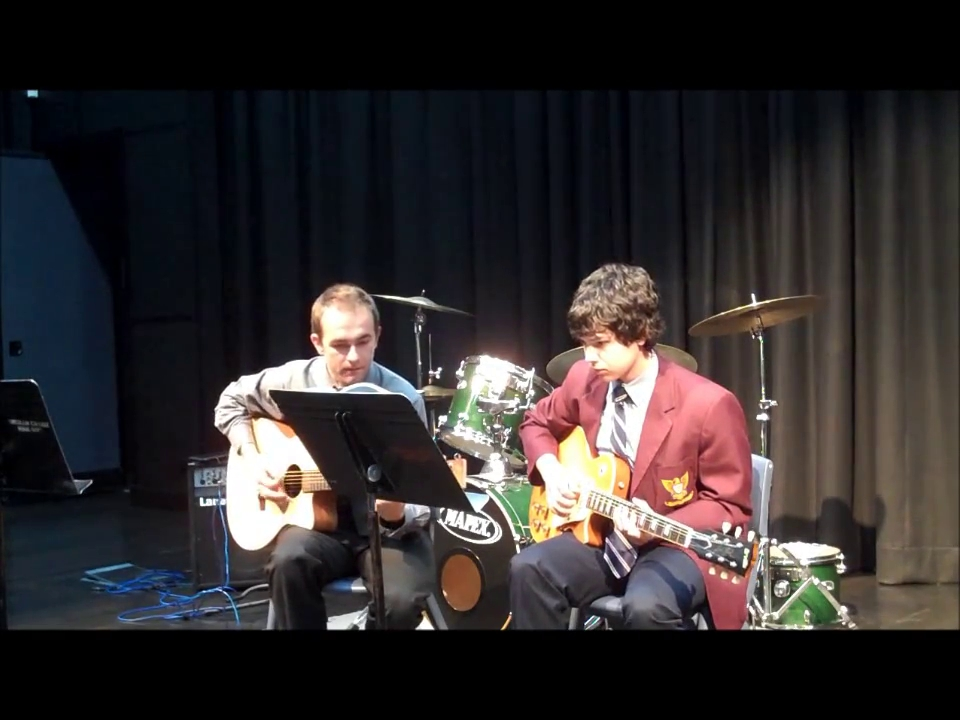person: (508, 263, 757, 630), (214, 283, 436, 630)
